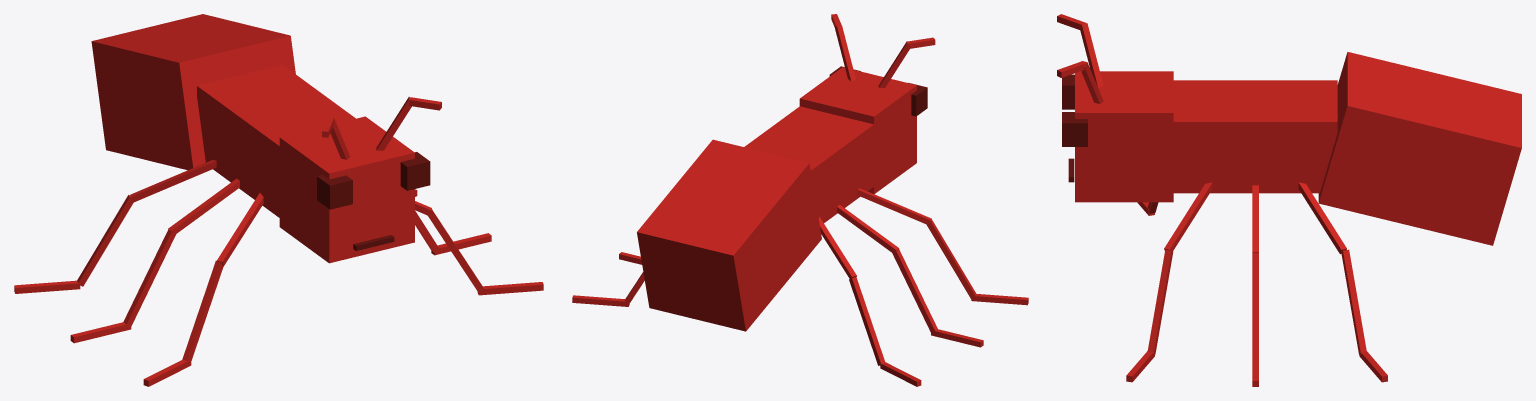
File: FlameAnt.fbx
3 renders of one model, left to right at view 1: azimuth 30°, elevation 25°; view 2: azimuth 150°, elevation 25°; view 3: azimuth 270°, elevation 25°, orthographic. The views are drawn at different scales.
Parts seen in each view (by area): view 1: Cube.001, Cube.022, Cube.023; view 2: Cube.001, Cube.022; view 3: Cube.001, Cube.023, Cube.022.
Part boxes in pixels (x1,y1,x2,y2): Cube.001: [14, 14, 543, 386]; Cube.022: [317, 175, 352, 209]; Cube.023: [400, 152, 430, 190]; Cube.001: [572, 14, 1028, 386]; Cube.022: [908, 82, 927, 116]; Cube.001: [1057, 14, 1521, 386]; Cube.023: [1062, 112, 1087, 146]; Cube.022: [1062, 74, 1074, 109].
Bounding box in the file's own units: 175 × 98.59 × 170.
